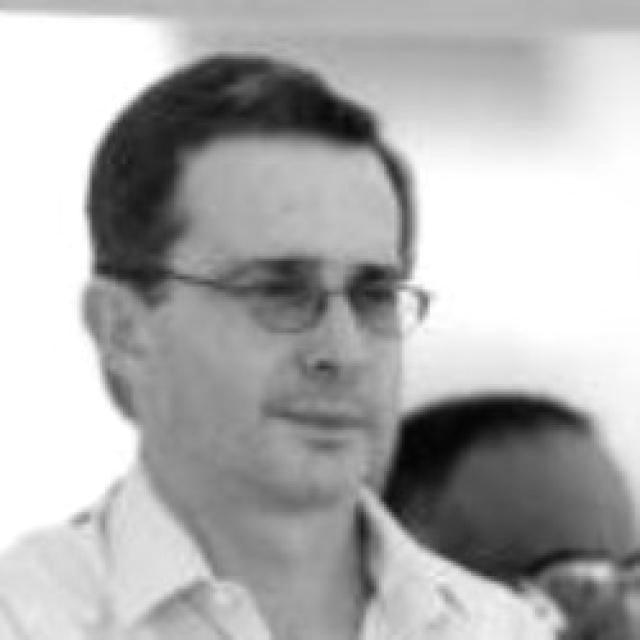real: (146, 132, 406, 510), (211, 245, 408, 329)
